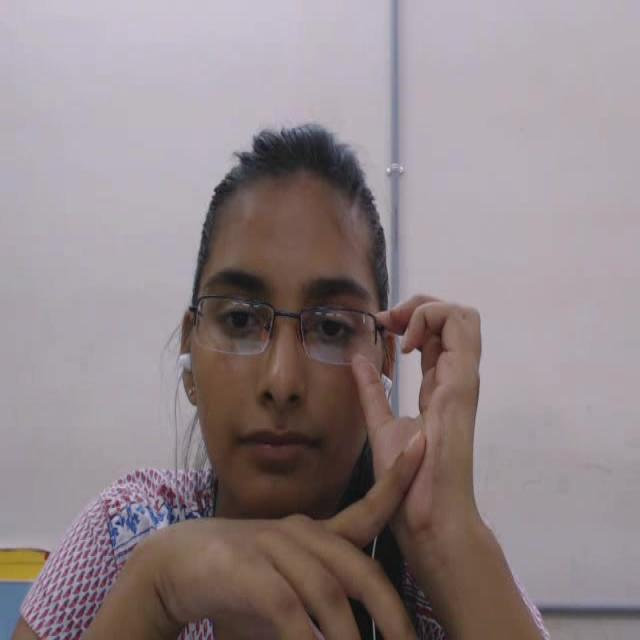Bored: (137, 84, 449, 548)
